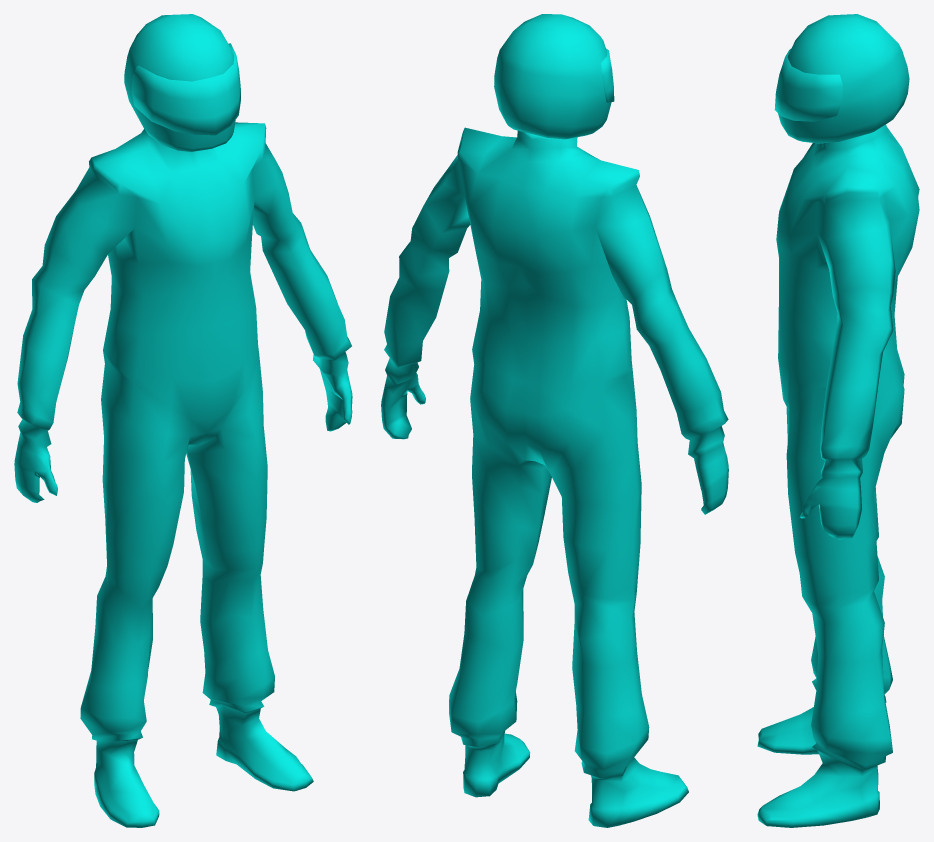
Rendered from Driver.fbx.
3 views of the same model, side by side, from view 1: azimuth 30°, elevation 25°; view 2: azimuth 150°, elevation 25°; view 3: azimuth 270°, elevation 25° (orthographic). The views are drawn at different scales.
Parts seen in each view (by area): view 1: Mesh; view 2: Mesh; view 3: Mesh.
Boxes of the visible parts, <box> form: Mesh: <box>14,14,352,827</box>; Mesh: <box>381,14,728,827</box>; Mesh: <box>757,14,919,827</box>.
Bounding box in the file's own units: 9.13 × 20.11 × 3.88.
